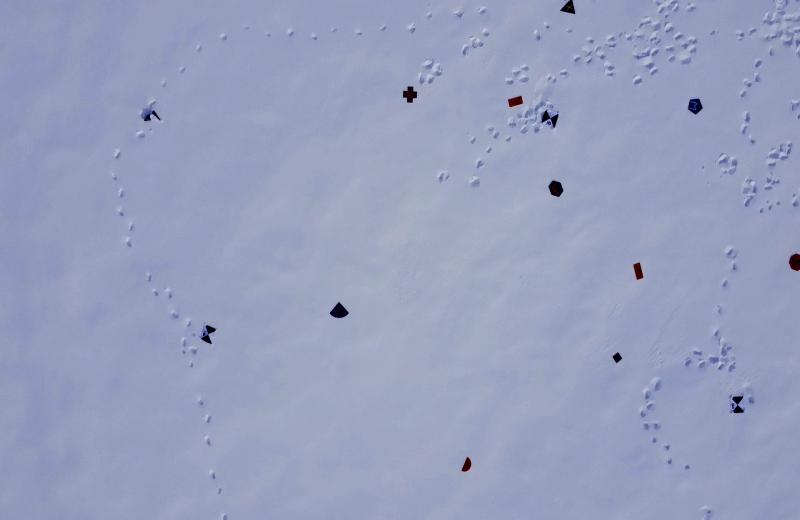Cross: (401, 85, 418, 104)
Hexagon: (548, 180, 563, 198)
Octagon: (789, 251, 800, 273)
Pentagon: (686, 98, 704, 116)
Quarter Circle: (330, 300, 350, 320)
Rectangle: (633, 262, 644, 282), (508, 95, 524, 108)
Semi Circle: (460, 456, 474, 473)
Square: (612, 352, 622, 364)
Triangle: (559, 0, 577, 18)
